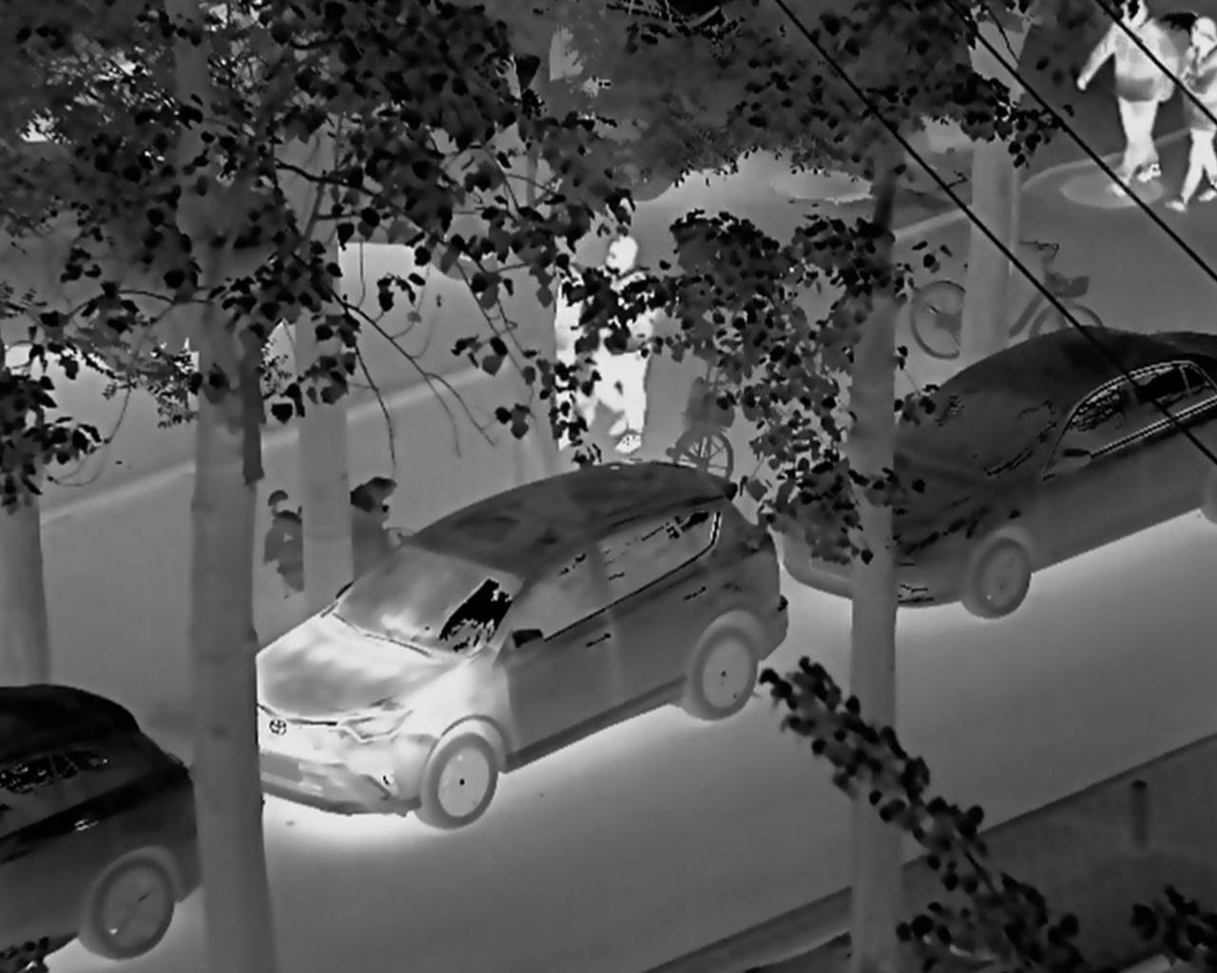person: (581, 228, 662, 460)
